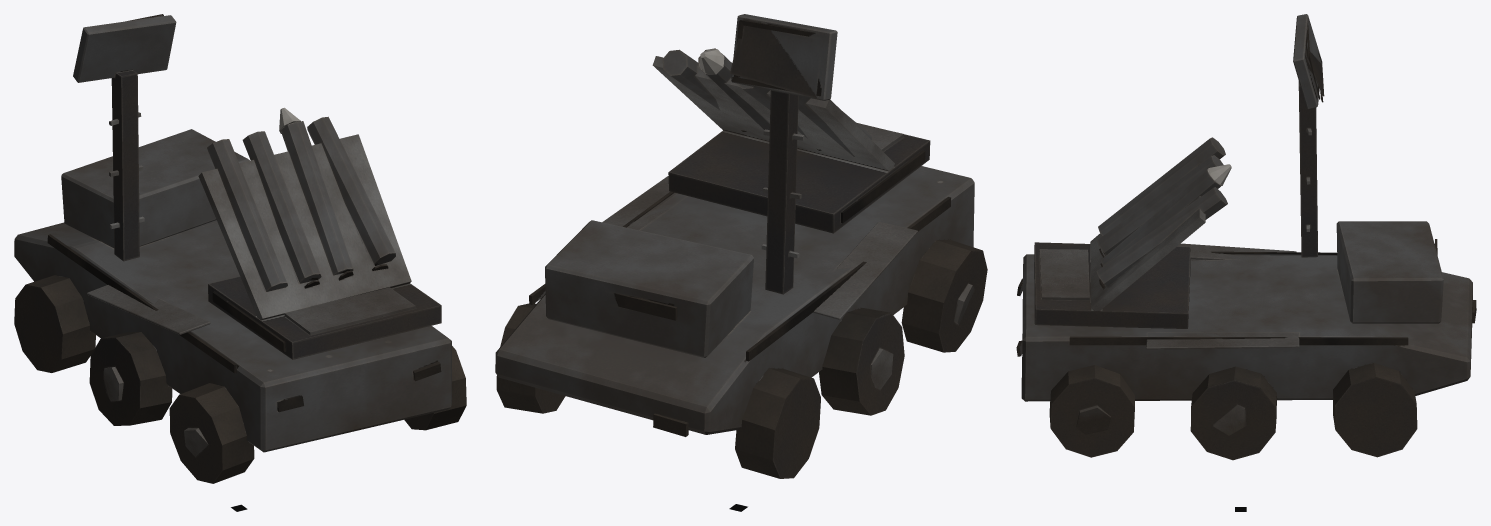
The model's file is chs_gorgon_wreck.fbx.
3 views of the same model, side by side, from view 1: azimuth 30°, elevation 25°; view 2: azimuth 150°, elevation 25°; view 3: azimuth 270°, elevation 25° (orthographic). The views are drawn at different scales.
Visible parts, largest first — view 1: base_bar, launcher_bar, turret_bar, wheelL3_bar, wheelL2_bar, wheelL1_bar, wheelR3_bar; view 2: base_bar, launcher_bar, turret_bar, wheelL1_bar, wheelL2_bar, wheelL3_bar, wheelR1_bar; view 3: base_bar, launcher_bar, wheelR2_bar, wheelR1_bar, wheelR3_bar, turret_bar.
Part boxes in pixels (bbox=[...]): base_bar: bbox=[14, 129, 451, 452]; launcher_bar: bbox=[198, 107, 441, 359]; turret_bar: bbox=[73, 14, 176, 261]; wheelL3_bar: bbox=[169, 383, 254, 483]; wheelL2_bar: bbox=[89, 332, 172, 425]; wheelL1_bar: bbox=[14, 275, 95, 372]; wheelR3_bar: bbox=[404, 346, 466, 430]; base_bar: bbox=[495, 166, 974, 436]; launcher_bar: bbox=[652, 48, 930, 233]; turret_bar: bbox=[730, 14, 837, 294]; wheelL1_bar: bbox=[735, 368, 820, 478]; wheelL2_bar: bbox=[819, 307, 904, 415]; wheelL3_bar: bbox=[901, 240, 987, 352]; wheelR1_bar: bbox=[496, 303, 565, 413]; base_bar: bbox=[1016, 221, 1476, 401]; launcher_bar: bbox=[1034, 137, 1231, 328]; wheelR2_bar: bbox=[1190, 366, 1276, 460]; wheelR1_bar: bbox=[1333, 362, 1417, 457]; wheelR3_bar: bbox=[1049, 365, 1134, 457]; turret_bar: bbox=[1293, 14, 1324, 257].
Size of the model in its own units: 476 by 839 by 790.
Materials: 2 (2 with a texture image).
